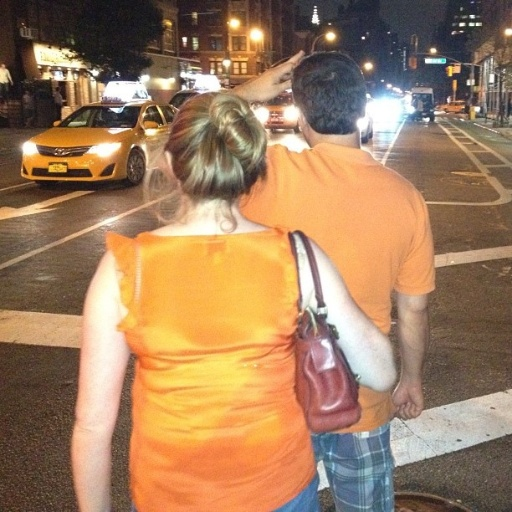hand: (236, 47, 307, 99), (392, 365, 433, 431)
